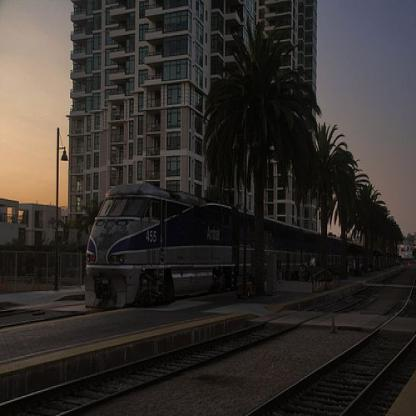train: (82, 183, 366, 312)
